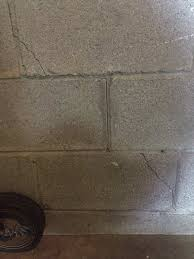crack: (6, 1, 45, 74), (139, 150, 173, 197)
